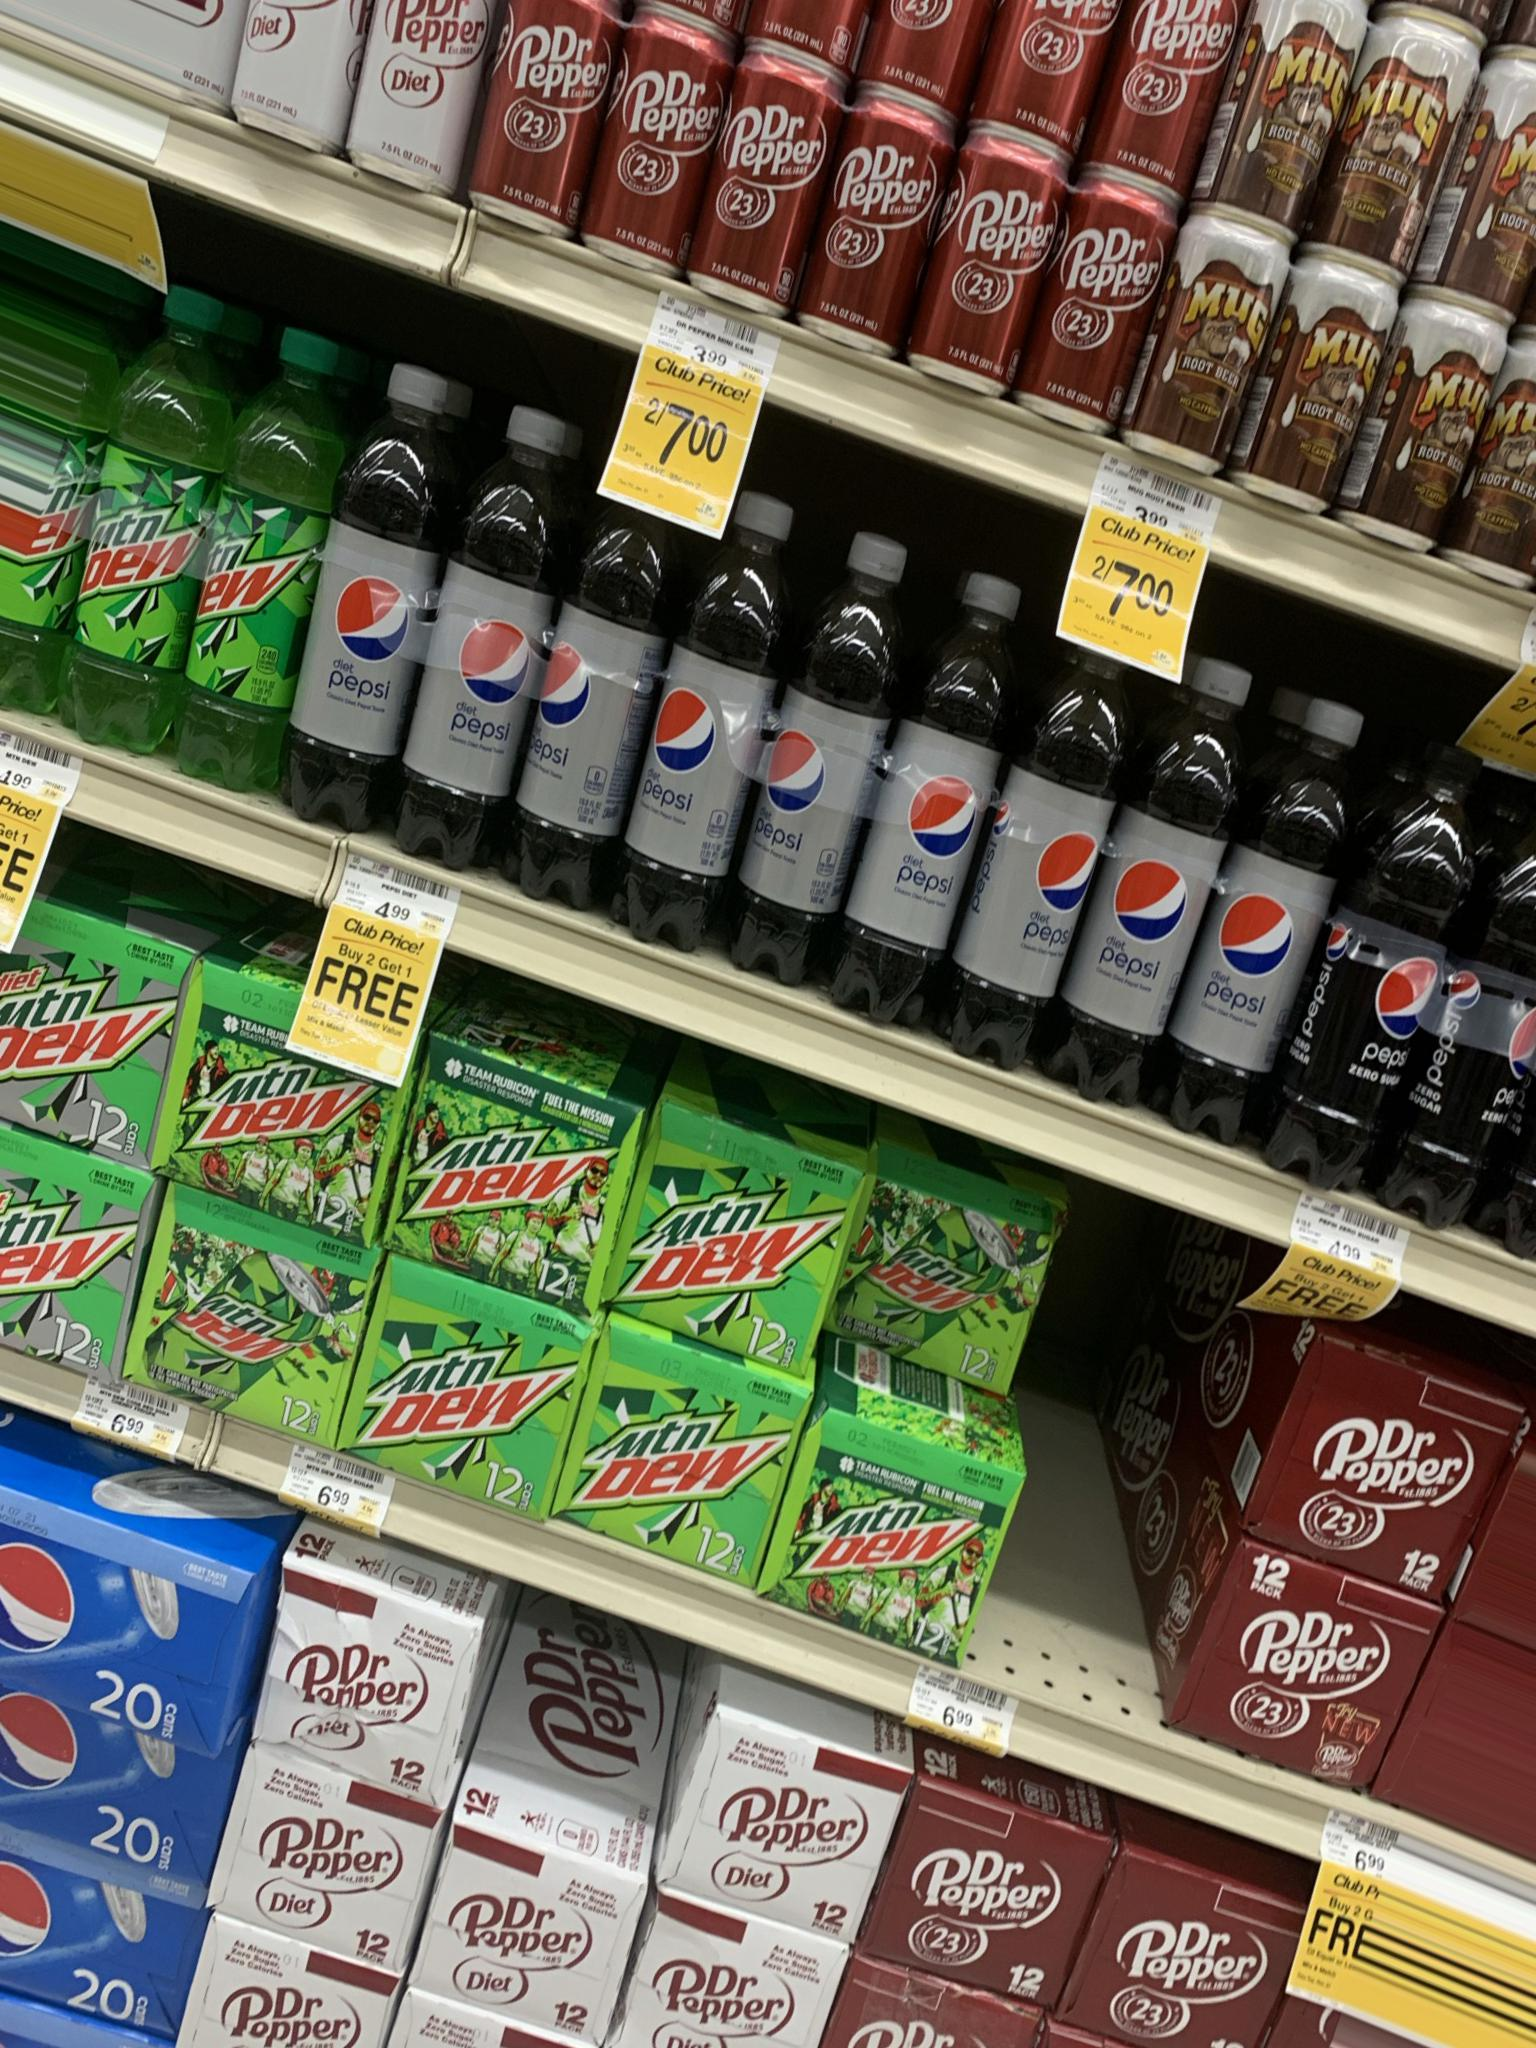soda: (1012, 616, 1283, 1158), (378, 389, 628, 898), (715, 518, 942, 1029), (177, 966, 378, 1243), (408, 1035, 592, 1306), (349, 1276, 561, 1509), (632, 1100, 816, 1369), (582, 1330, 763, 1588), (278, 1553, 468, 1790), (821, 1417, 995, 1651), (169, 1201, 319, 1434), (905, 1788, 1068, 1998), (250, 1764, 416, 1959)
